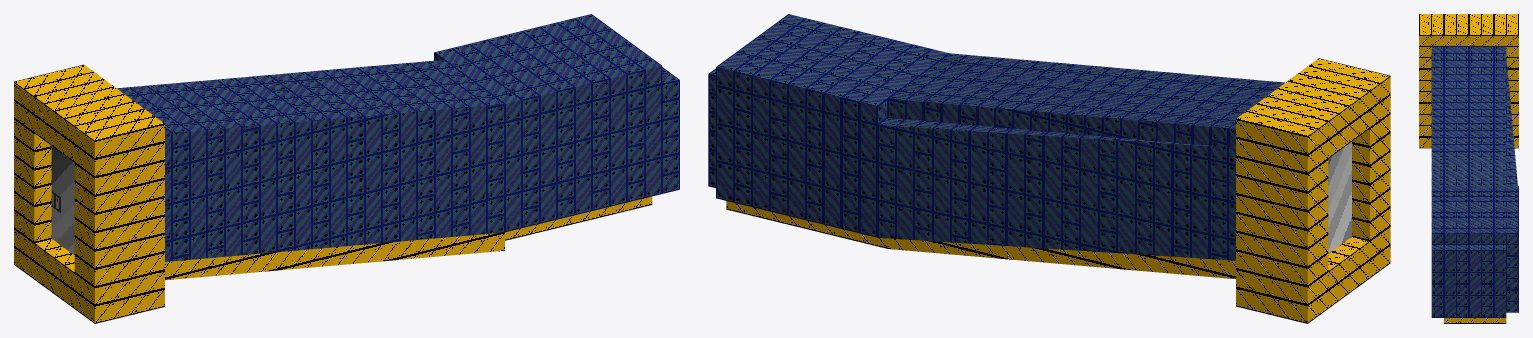
File: end_door.obj
3 views of the same model, side by side, from view 1: azimuth 30°, elevation 25°; view 2: azimuth 150°, elevation 25°; view 3: azimuth 270°, elevation 25° (orthographic). The views are drawn at different scales.
Visible parts, largest first — view 1: entity0_brush7, entity0_brush5, entity0_brush9, entity0_brush10, entity0_brush3, entity0_brush1, entity0_brush4, entity0_brush0, entity0_brush2, entity0_brush14, entity0_brush11; view 2: entity0_brush6, entity0_brush5, entity0_brush8, entity0_brush10, entity0_brush3, entity0_brush2, entity0_brush0, entity0_brush4, entity0_brush1, entity0_brush14, entity0_brush11, entity0_brush12; view 3: entity0_brush5, entity0_brush10, entity0_brush12, entity0_brush3, entity0_brush9, entity0_brush1, entity0_brush8, entity0_brush6, entity0_brush2, entity0_brush0, entity0_brush11.
Part boxes in pixels (<box>): entity0_brush7: <box>165,122,504,261</box>; entity0_brush5: <box>117,60,504,151</box>; entity0_brush9: <box>505,72,679,232</box>; entity0_brush10: <box>434,14,662,122</box>; entity0_brush3: <box>14,64,164,177</box>; entity0_brush1: <box>74,160,164,287</box>; entity0_brush4: <box>165,232,504,280</box>; entity0_brush0: <box>14,228,164,323</box>; entity0_brush2: <box>14,118,51,242</box>; entity0_brush14: <box>51,146,74,254</box>; entity0_brush11: <box>505,196,652,240</box>; entity0_brush6: <box>877,117,1235,260</box>; entity0_brush5: <box>887,53,1284,147</box>; entity0_brush8: <box>716,86,877,237</box>; entity0_brush10: <box>716,14,949,124</box>; entity0_brush3: <box>1236,58,1390,173</box>; entity0_brush2: <box>1236,156,1328,286</box>; entity0_brush0: <box>1236,226,1390,323</box>; entity0_brush4: <box>887,238,1235,279</box>; entity0_brush1: <box>1352,113,1390,240</box>; entity0_brush14: <box>1328,142,1351,253</box>; entity0_brush11: <box>726,201,887,248</box>; entity0_brush12: <box>708,68,715,187</box>; entity0_brush5: <box>1431,46,1506,185</box>; entity0_brush10: <box>1431,186,1518,244</box>; entity0_brush12: <box>1444,244,1506,317</box>; entity0_brush3: <box>1419,14,1518,57</box>; entity0_brush9: <box>1431,244,1443,317</box>; entity0_brush1: <box>1419,57,1431,125</box>; entity0_brush8: <box>1506,244,1518,312</box>; entity0_brush6: <box>1506,58,1517,185</box>; entity0_brush2: <box>1506,57,1518,125</box>; entity0_brush0: <box>1419,125,1518,148</box>; entity0_brush11: <box>1444,318,1506,323</box>.
Size of the model in its own units: 544 by 192 by 128.
